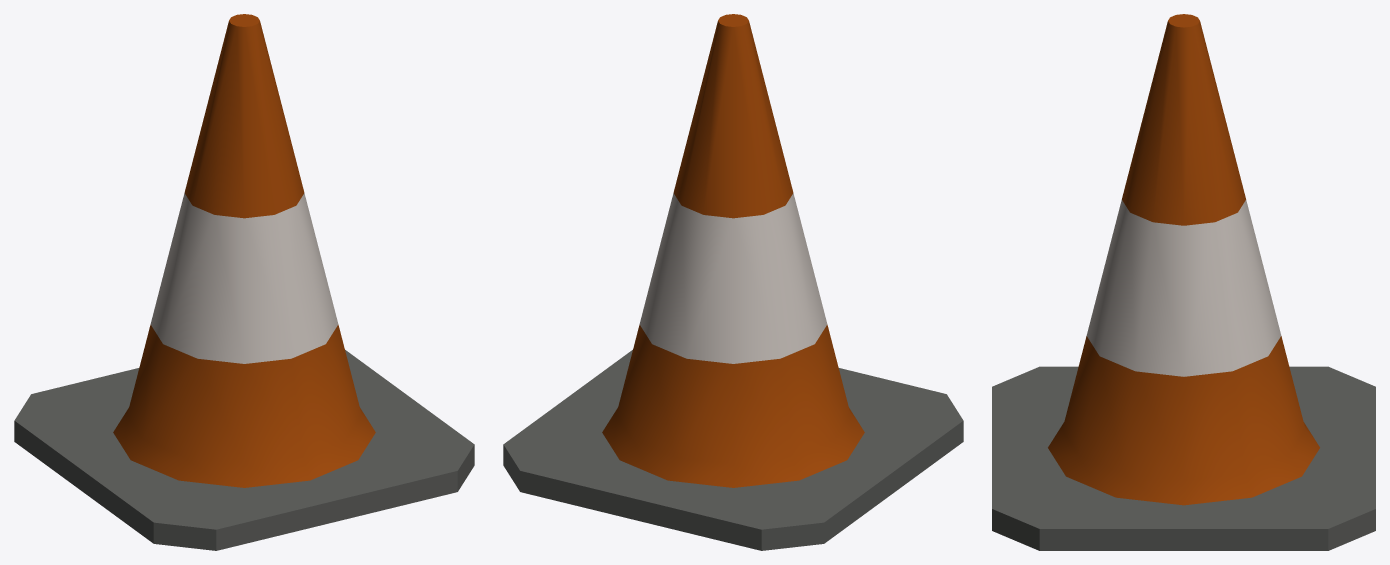
3 renders of one model, left to right at view 1: azimuth 30°, elevation 25°; view 2: azimuth 150°, elevation 25°; view 3: azimuth 270°, elevation 25°, orthographic. The views are drawn at different scales.
Visible parts, largest first — view 1: TrafficCone_1; view 2: TrafficCone_1; view 3: TrafficCone_1.
Boxes of the visible parts, x1,y1,x2,y2 form: TrafficCone_1: (14, 14, 474, 550); TrafficCone_1: (503, 14, 963, 550); TrafficCone_1: (992, 14, 1375, 550).
Bounding box in the file's own units: 0.5216 × 0.6733 × 0.5216.
Materials: 1 (1 with a texture image).
